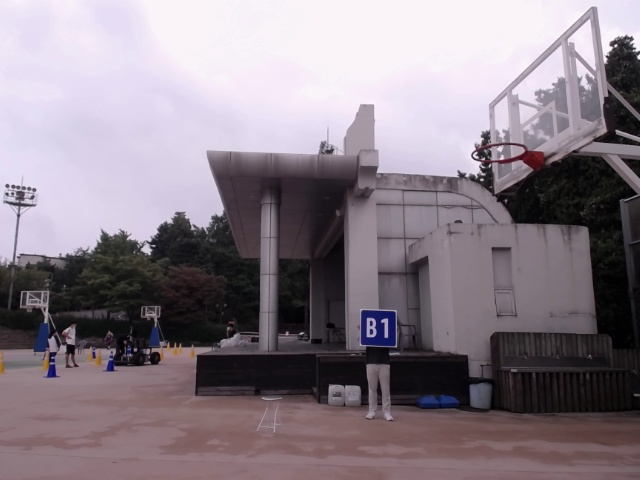delivery_b1: (360, 309, 397, 347)
